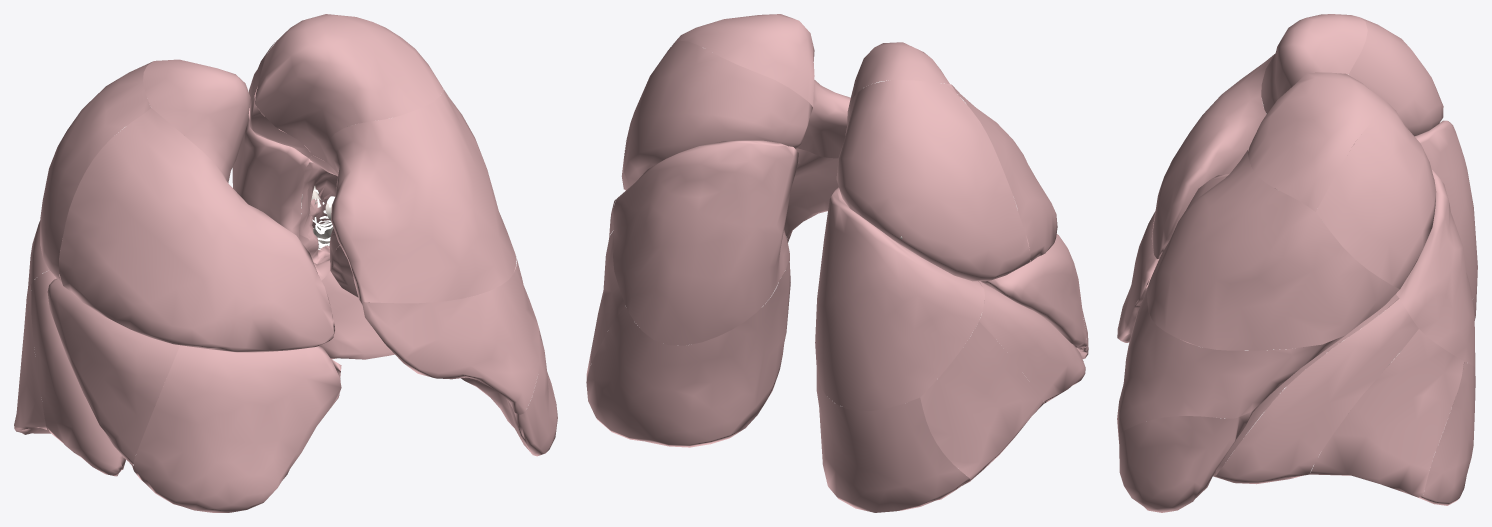
File: 3d-vh-m-lung-40.glb
3 renders of one model, left to right at view 1: azimuth 30°, elevation 25°; view 2: azimuth 150°, elevation 25°; view 3: azimuth 270°, elevation 25°, orthographic. The views are drawn at different scales.
Parts seen in each view (by area): view 1: VH_M_right_anterior_bronchopulmonary_segment, VH_M_left_anterior_bronchopulmonary_segment, VH_M_right_medial_bronchopulmonary_segment, VH_M_left_apical_bronchopulmonary_segment, VH_M_left_lingula_superior_bronchopulmonary_segment, VH_M_right_lateral_bronchopulmonary_segment, VH_M_right_apical_bronchopulmonary_segment, VH_M_right_posterior_bronchopulmonary_segment, VH_M_right_anterior_basal_bronchopulmonary_segment, VH_M_left_superior_bronchopulmonary_segment, VH_M_left_lingula_inferior_bronchopulmonary_segment, VH_M_left_medial_basal_bronchopulmonary_segment (+5 smaller); view 2: VH_M_left_superior_bronchopulmonary_segment, VH_M_right_posterior_bronchopulmonary_segment, VH_M_right_superior_bronchopulmonary_segment, VH_M_left_posetrior_basal_bronchopulmonary_segment, VH_M_left_posterior_bronchopulmonary_segment, VH_M_right_posterior_basal_bronchopulmonary_segment, VH_M_right_lateral_basal_bronchopulmonary_segment, VH_M_left_apical_bronchopulmonary_segment, VH_M_right_anterior_basal_bronchopulmonary_segment, VH_M_right_lateral_bronchopulmonary_segment, VH_M_right_anterior_bronchopulmonary_segment, VH_M_left_lingula_superior_bronchopulmonary_segment (+3 smaller); view 3: VH_M_left_anterior_bronchopulmonary_segment, VH_M_left_lateral_basal_bronchopulmonary_segment, VH_M_left_posterior_bronchopulmonary_segment, VH_M_left_anterior_basal_bronchopulmonary_segment, VH_M_left_lingula_superior_bronchopulmonary_segment, VH_M_left_apical_bronchopulmonary_segment, VH_M_left_lingula_inferior_bronchopulmonary_segment, VH_M_right_anterior_bronchopulmonary_segment, VH_M_left_superior_bronchopulmonary_segment, VH_M_right_apical_bronchopulmonary_segment, VH_M_right_posterior_bronchopulmonary_segment, VH_M_left_posetrior_basal_bronchopulmonary_segment (+3 smaller).
Part boxes in pixels (x1,y1,x2,y2): VH_M_right_anterior_bronchopulmonary_segment: [59, 108, 335, 352]; VH_M_left_anterior_bronchopulmonary_segment: [326, 89, 516, 303]; VH_M_right_medial_bronchopulmonary_segment: [132, 345, 341, 512]; VH_M_left_apical_bronchopulmonary_segment: [255, 14, 443, 162]; VH_M_left_lingula_superior_bronchopulmonary_segment: [359, 256, 539, 414]; VH_M_right_lateral_bronchopulmonary_segment: [47, 277, 179, 465]; VH_M_right_apical_bronchopulmonary_segment: [143, 59, 250, 182]; VH_M_right_posterior_bronchopulmonary_segment: [40, 61, 152, 284]; VH_M_right_anterior_basal_bronchopulmonary_segment: [31, 270, 125, 476]; VH_M_left_superior_bronchopulmonary_segment: [232, 87, 323, 238]; VH_M_left_lingula_inferior_bronchopulmonary_segment: [330, 245, 557, 456]; VH_M_left_medial_basal_bronchopulmonary_segment: [319, 271, 394, 359]; VH_M_left_superior_bronchopulmonary_segment: [613, 140, 798, 345]; VH_M_right_posterior_bronchopulmonary_segment: [836, 80, 1030, 281]; VH_M_right_superior_bronchopulmonary_segment: [815, 187, 984, 411]; VH_M_left_posetrior_basal_bronchopulmonary_segment: [586, 262, 790, 447]; VH_M_left_posterior_bronchopulmonary_segment: [624, 40, 812, 186]; VH_M_right_posterior_basal_bronchopulmonary_segment: [816, 370, 970, 512]; VH_M_right_lateral_basal_bronchopulmonary_segment: [920, 321, 1043, 480]; VH_M_left_apical_bronchopulmonary_segment: [670, 14, 814, 106]; VH_M_right_anterior_basal_bronchopulmonary_segment: [979, 281, 1085, 403]; VH_M_right_lateral_bronchopulmonary_segment: [978, 234, 1087, 349]; VH_M_right_anterior_bronchopulmonary_segment: [951, 84, 1057, 261]; VH_M_left_lingula_superior_bronchopulmonary_segment: [624, 148, 838, 240]; VH_M_left_anterior_bronchopulmonary_segment: [1147, 150, 1399, 350]; VH_M_left_lateral_basal_bronchopulmonary_segment: [1309, 329, 1464, 497]; VH_M_left_posterior_bronchopulmonary_segment: [1316, 102, 1436, 288]; VH_M_left_anterior_basal_bronchopulmonary_segment: [1213, 299, 1418, 484]; VH_M_left_lingula_superior_bronchopulmonary_segment: [1117, 290, 1396, 434]; VH_M_left_apical_bronchopulmonary_segment: [1247, 72, 1386, 211]; VH_M_left_lingula_inferior_bronchopulmonary_segment: [1118, 404, 1260, 512]; VH_M_right_anterior_bronchopulmonary_segment: [1151, 54, 1274, 259]; VH_M_left_superior_bronchopulmonary_segment: [1396, 168, 1475, 366]; VH_M_right_apical_bronchopulmonary_segment: [1261, 14, 1367, 113]; VH_M_right_posterior_bronchopulmonary_segment: [1348, 17, 1443, 136]; VH_M_left_posetrior_basal_bronchopulmonary_segment: [1417, 361, 1475, 505].
Size of the model in its own units: 0.2595 by 0.2291 by 0.1897.
